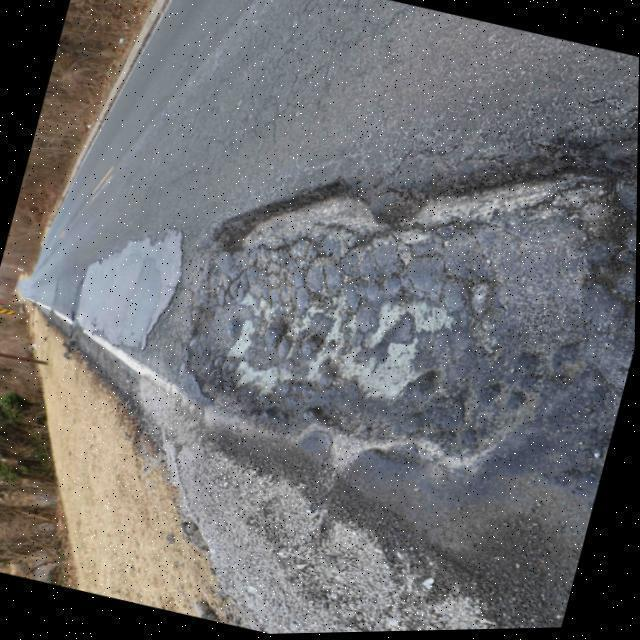Pothole: (179, 132, 637, 629), (69, 227, 186, 351)
